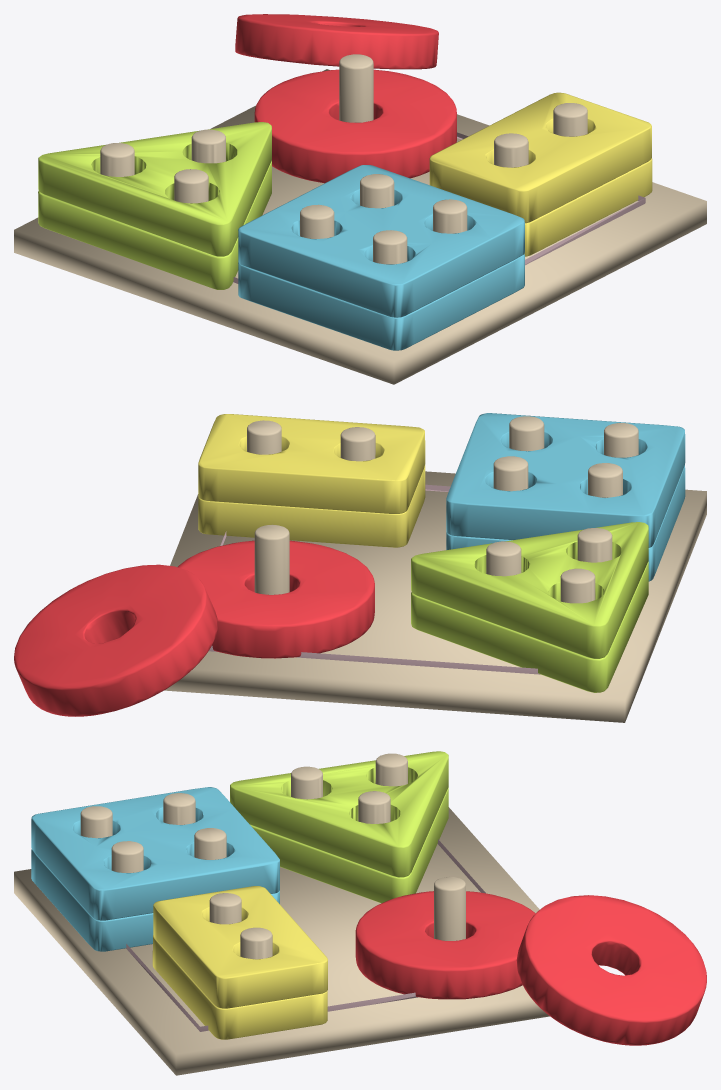
File: giochino1_LODs.fbx
3 views of the same model, one above another, from view 1: azimuth 30°, elevation 25°; view 2: azimuth 150°, elevation 25°; view 3: azimuth 270°, elevation 25° (orthographic). The views are drawn at different scales.
Visible parts, largest first — view 1: giochino1_LOD0; view 2: giochino1_LOD0; view 3: giochino1_LOD0.
Boxes of the visible parts, x1=… form: giochino1_LOD0: x1=14, y1=14, x2=706, y2=384; giochino1_LOD0: x1=14, y1=413, x2=706, y2=722; giochino1_LOD0: x1=14, y1=751, x2=706, y2=1075.
Size of what is drawn, in the model's own units: 1488 by 281 by 1737.
